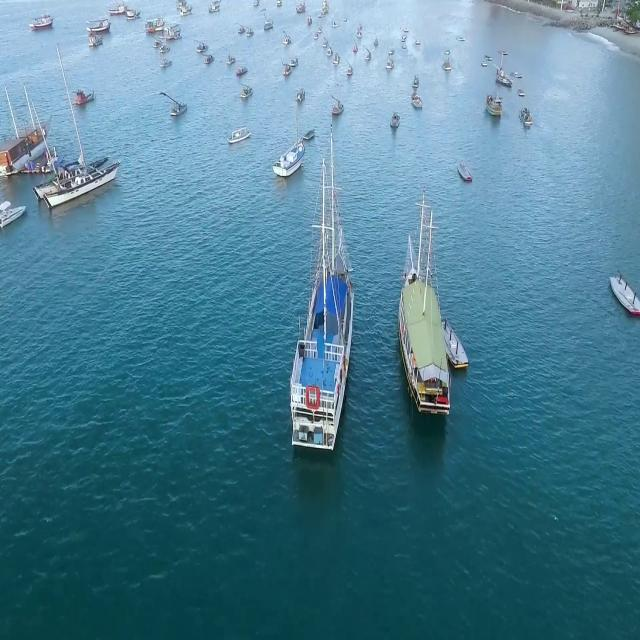ship: (398, 192, 468, 424), (291, 263, 357, 455), (32, 161, 120, 211), (0, 125, 50, 169), (273, 136, 310, 178), (610, 271, 640, 317), (1, 204, 28, 234), (86, 13, 113, 33), (455, 154, 472, 183), (75, 83, 95, 107), (228, 127, 252, 146), (31, 13, 56, 31), (488, 89, 502, 117), (170, 99, 187, 121), (147, 12, 164, 34), (496, 66, 512, 88), (520, 108, 535, 131), (410, 89, 424, 113), (168, 25, 181, 45), (241, 83, 257, 99), (294, 85, 306, 106), (91, 31, 104, 50), (237, 60, 249, 80), (332, 100, 346, 117), (443, 54, 453, 74), (203, 53, 214, 71), (333, 50, 345, 66), (160, 56, 173, 69), (392, 113, 401, 131), (282, 66, 294, 78), (346, 61, 354, 78), (386, 57, 394, 73), (365, 46, 371, 64), (264, 22, 273, 32), (248, 23, 252, 44)
